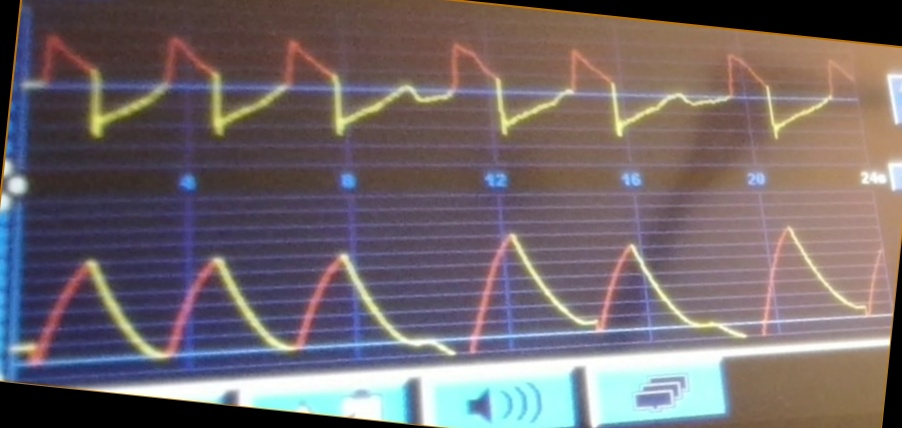Ineffective_effort Flow: (27, 27, 856, 147)
Ineffective_effort Volume: (22, 222, 882, 367)
